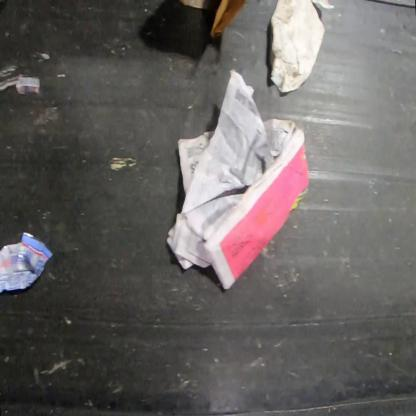cardboard: (179, 0, 247, 40)
soft_plastic: (0, 230, 56, 295)
